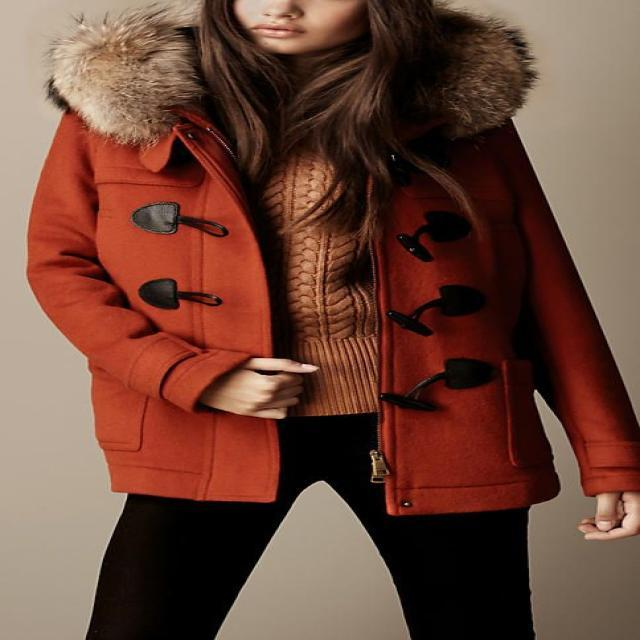coat: (23, 6, 640, 515)
